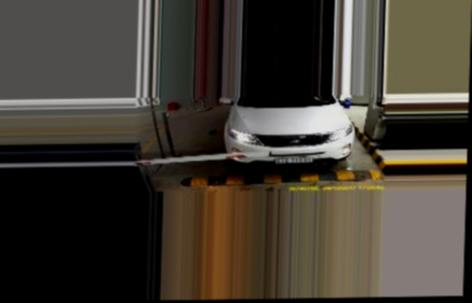License_Plate: (275, 154, 312, 164)
